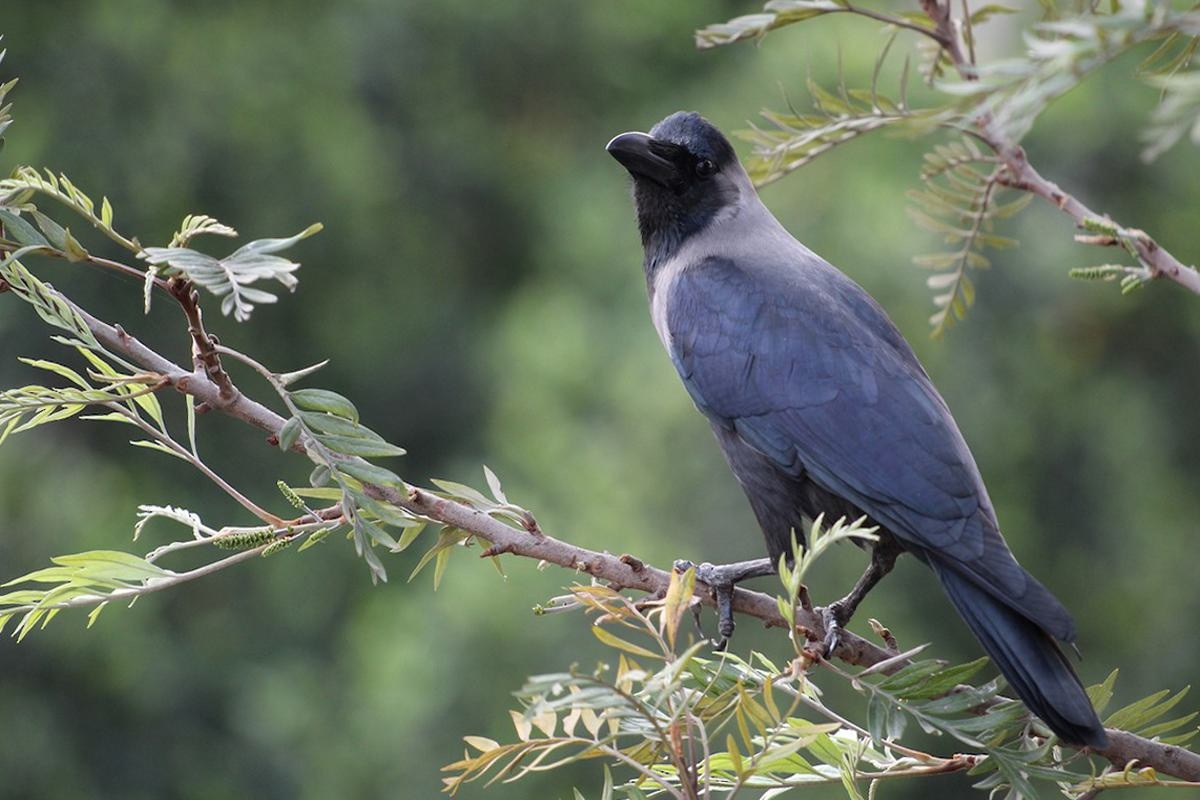crow: (610, 97, 1055, 721)
